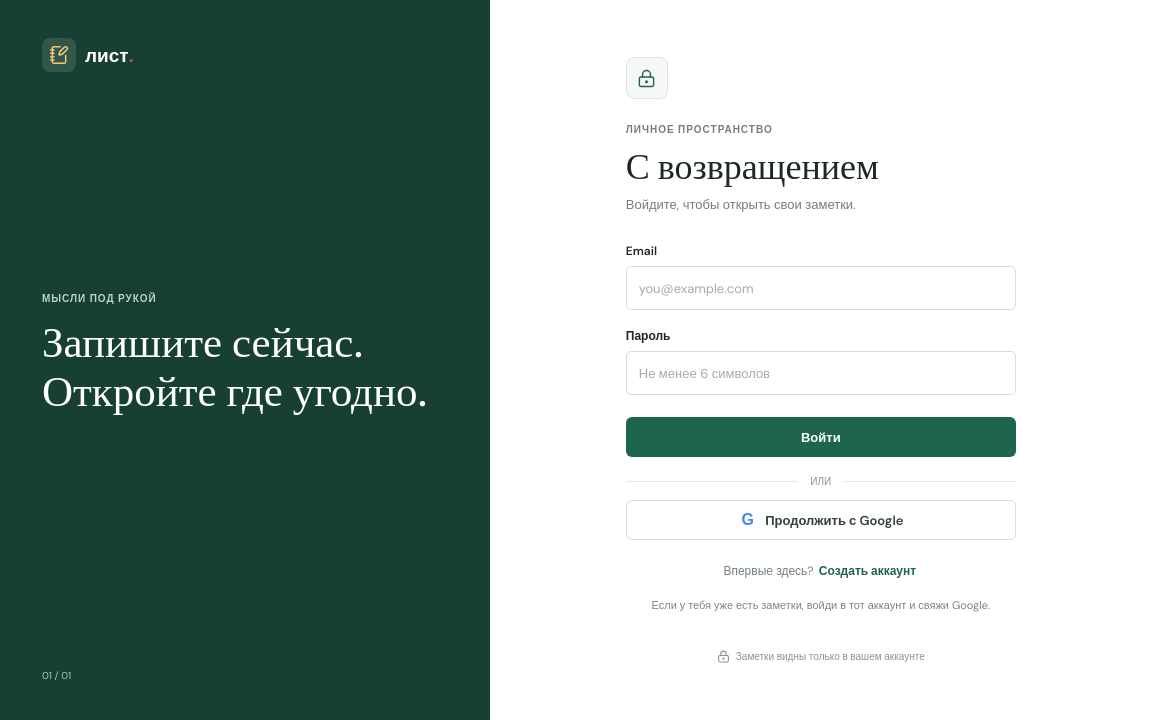
Scenario: notes app › deletes a note only after confirmation
In the field labelled "Email": (821, 288) [626,266,1016,310], type "reader@example.com"
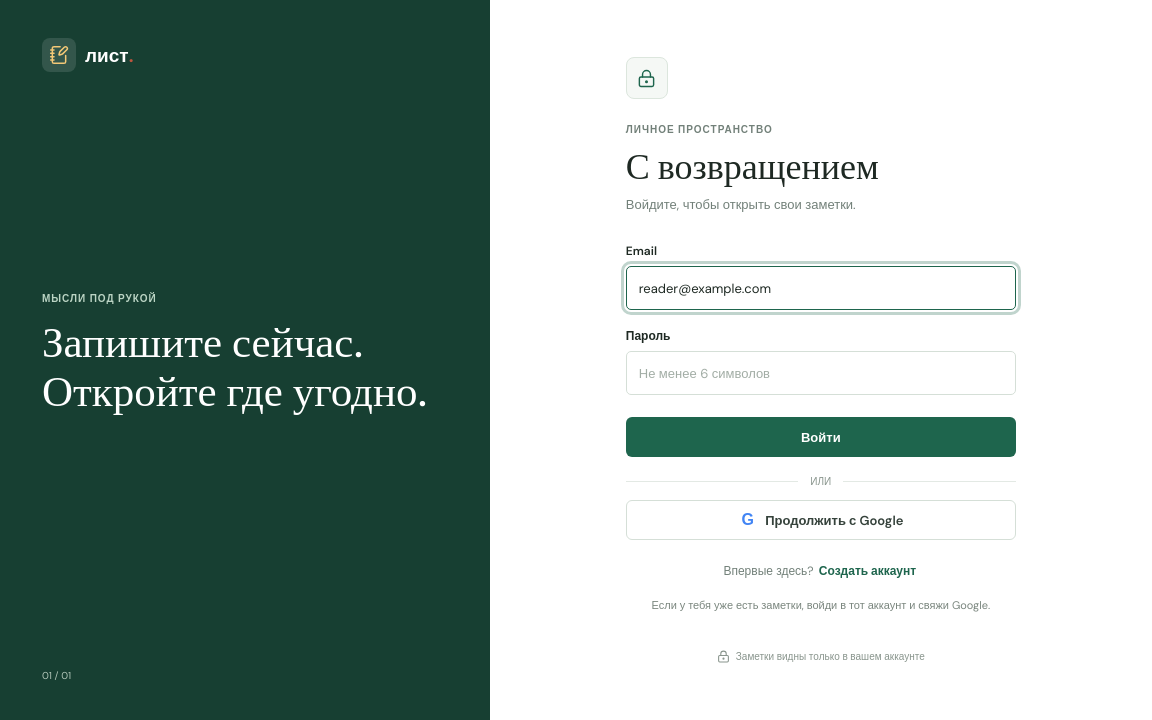
In the password field labelled "Пароль": (821, 374) [626,352,1016,396], type "not-a-real-password"
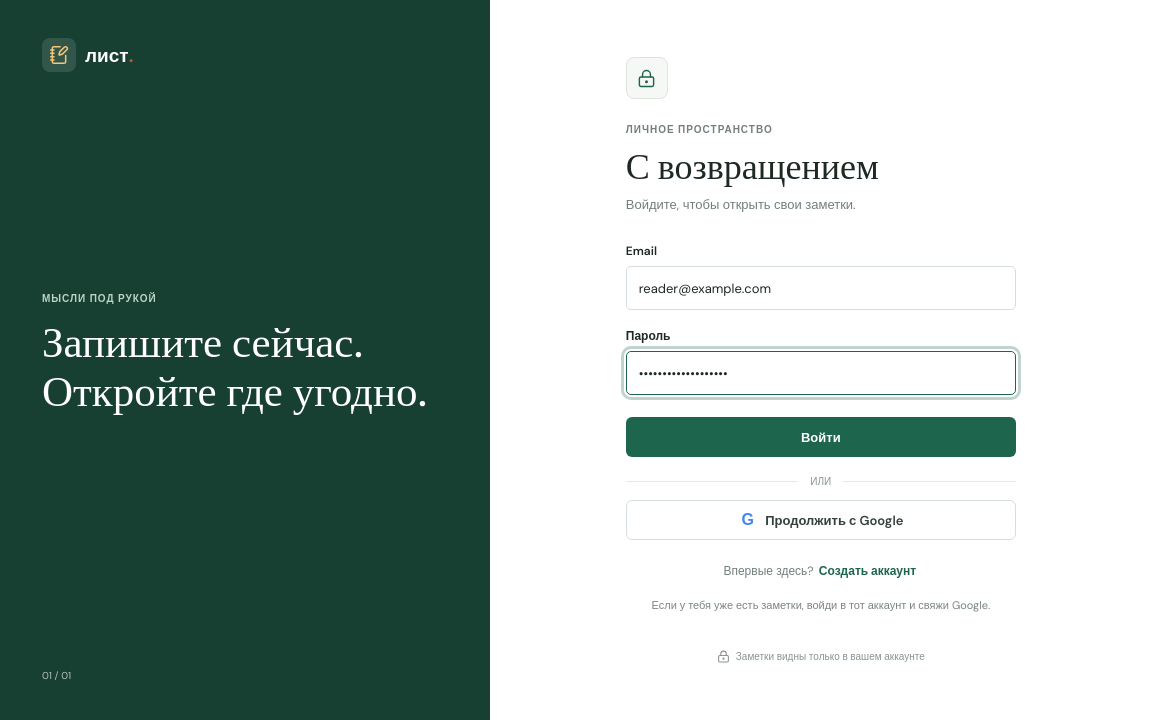
Click the button "Войти": (821, 438) [626,418,1016,458]
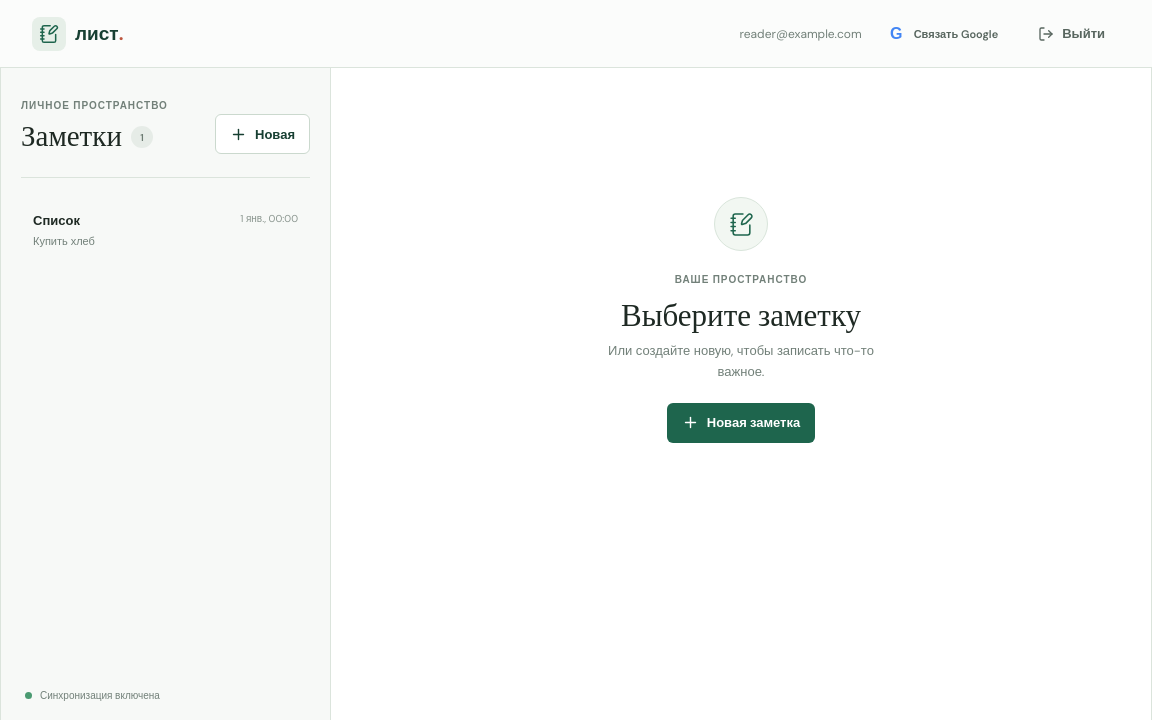
Now the text "Синхронизация включена" is shown, box [25,689,160,702]
Click the button "Список": (56, 220) [21,190,310,270]
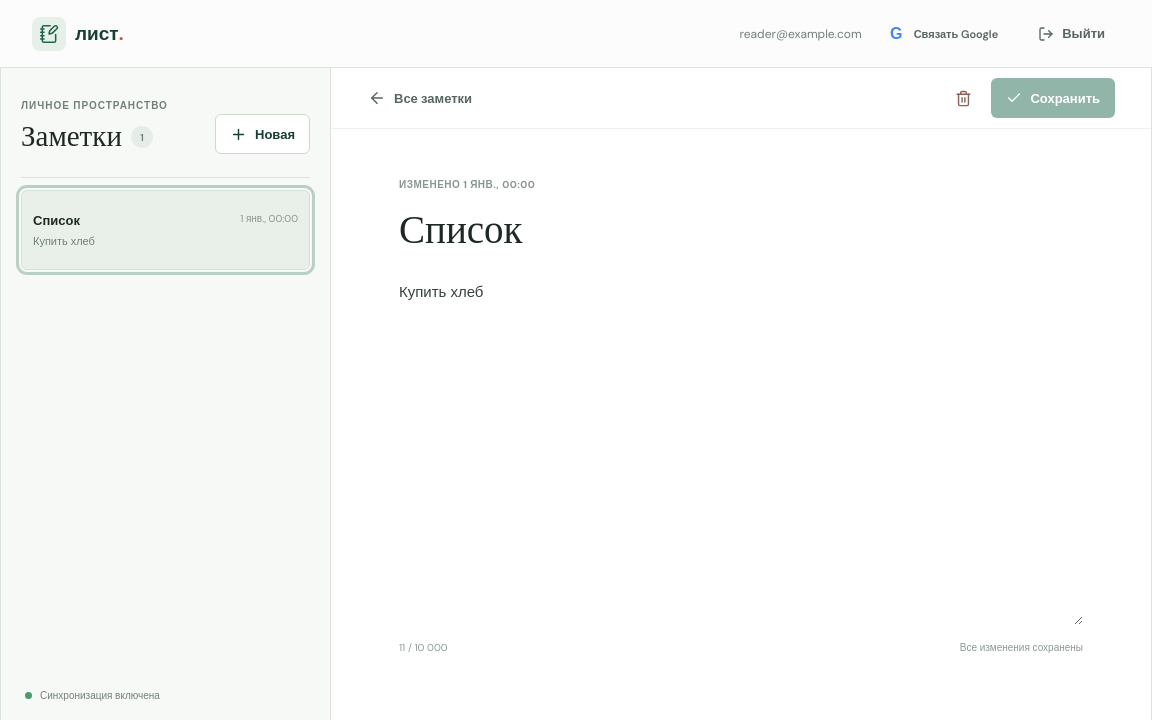
Click the button named "Удалить заметку": (963, 98) [944,79,982,117]
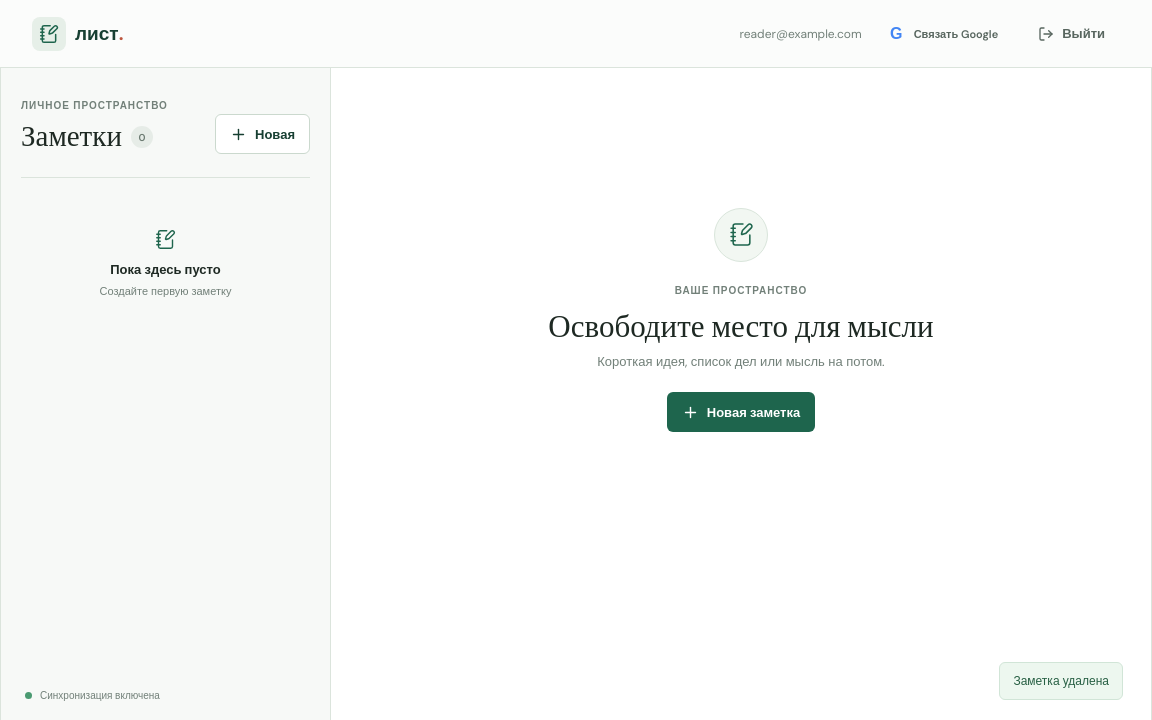
Now the text "Заметка удалена" is shown, box [999,662,1123,700]
